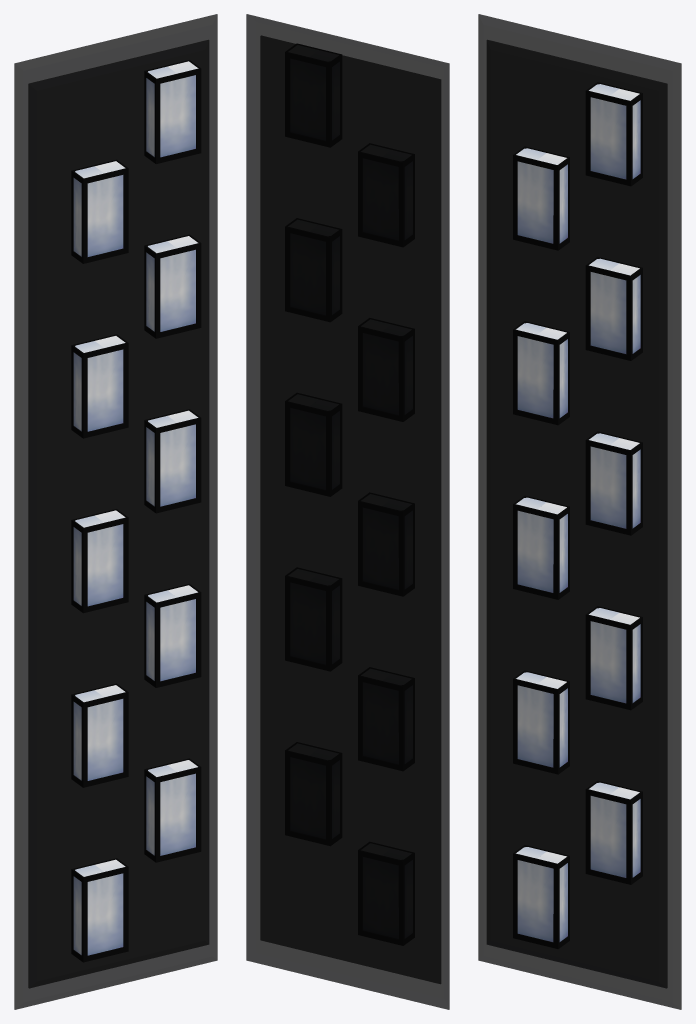
The model's file is FocosLaterales.fbx.
3 renders of one model, left to right at view 1: azimuth 30°, elevation 25°; view 2: azimuth 150°, elevation 25°; view 3: azimuth 330°, elevation 25°, orthographic.
Parts seen in each view (by area): view 1: glass_panel10, tiles1; view 2: glass_panel10; view 3: glass_panel10, tiles1.
Boxes of the visible parts, bbox=[...] form: glass_panel10: bbox=[14, 14, 217, 1009]; tiles1: bbox=[71, 60, 201, 962]; glass_panel10: bbox=[246, 14, 449, 1009]; glass_panel10: bbox=[478, 14, 681, 1009]; tiles1: bbox=[513, 82, 642, 948].
Bounding box in the file's own units: 1.08 × 4.83 × 0.1621.
Materials: 3 (1 with a texture image).
